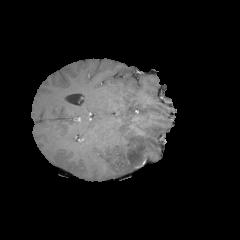glioma: (117, 109, 164, 166)
